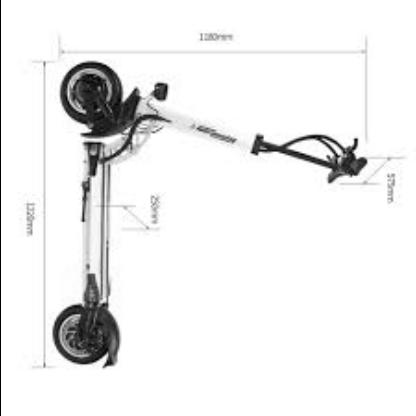bike: (52, 273, 121, 368), (250, 133, 368, 185)
